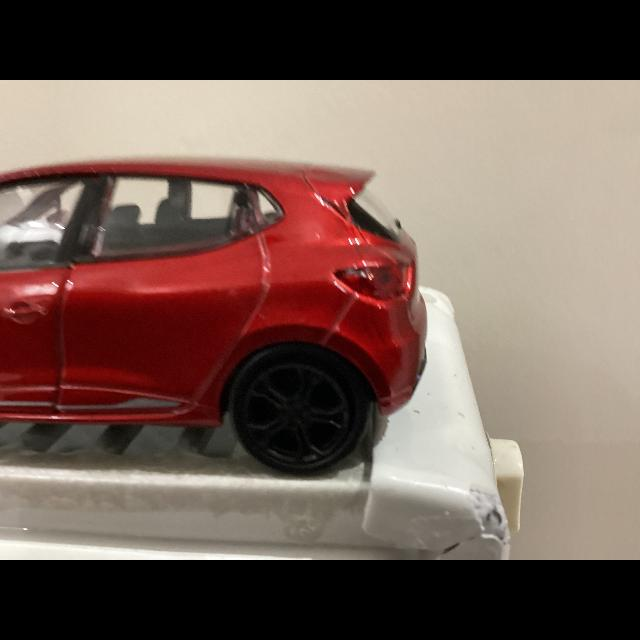Dogru_Jant: (243, 362, 349, 462)
